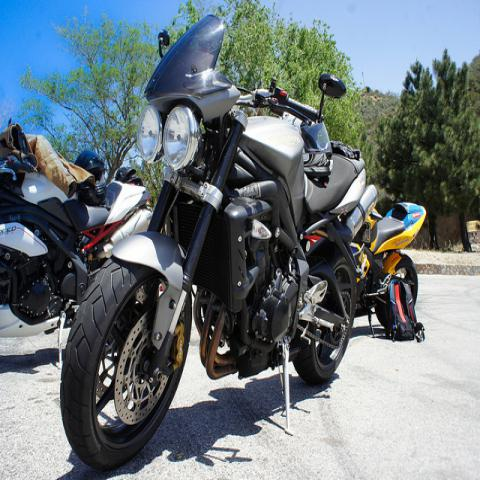motorcycle: (63, 17, 376, 463), (0, 122, 157, 371), (353, 199, 427, 329)
